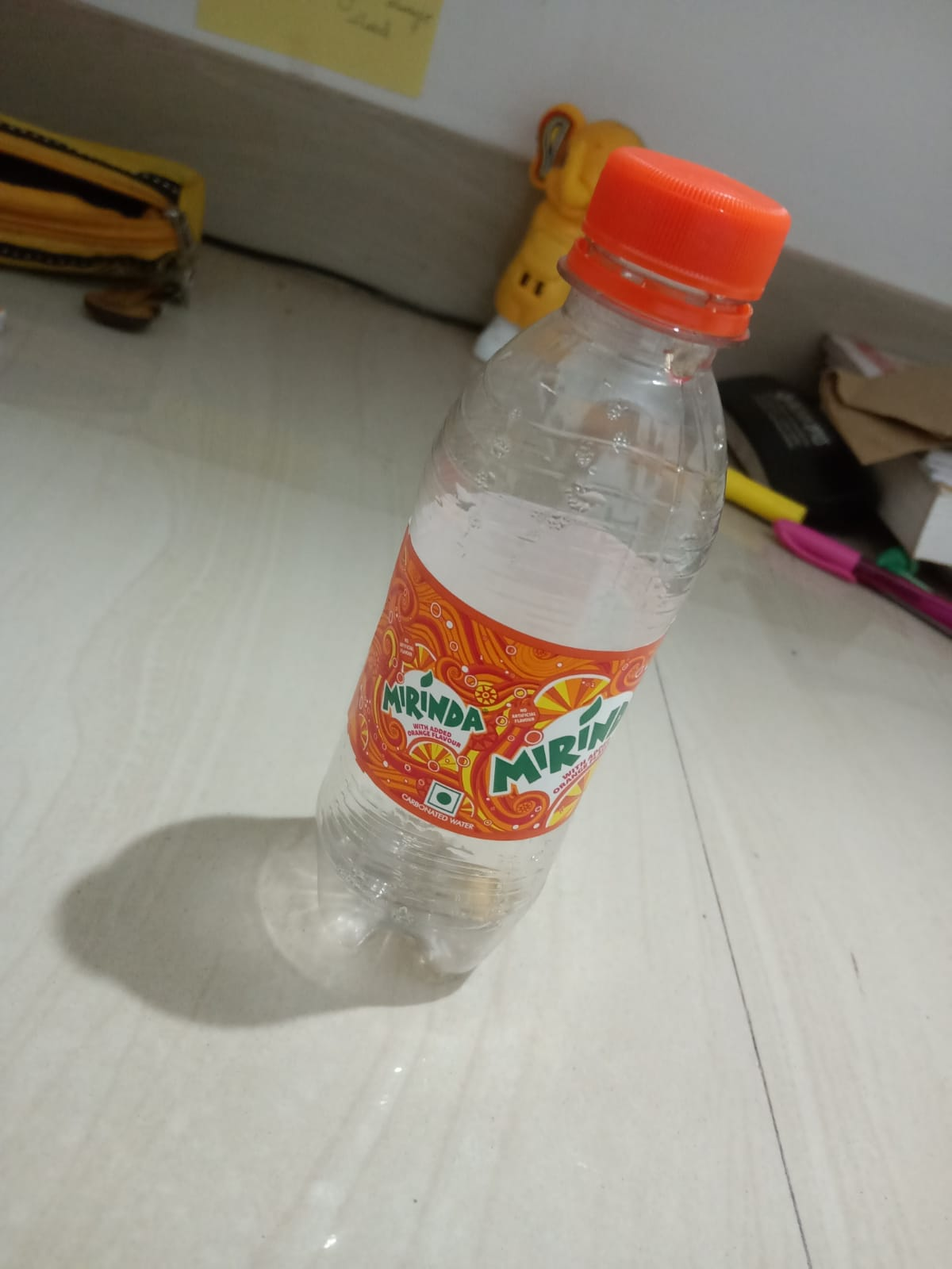plastic: (307, 112, 831, 1003)
